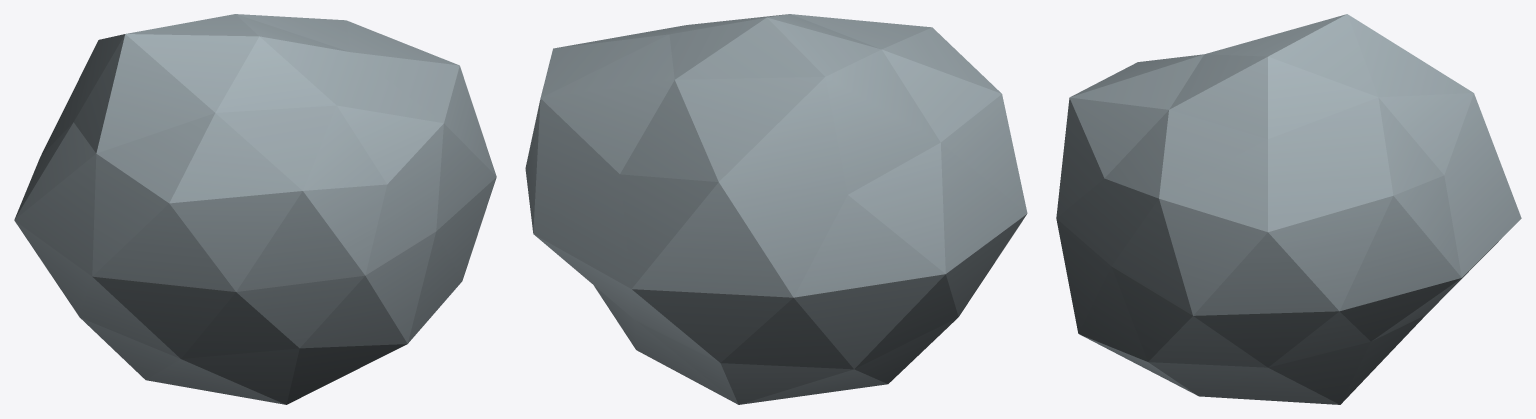
Rendered from smoke_puff_c.glb.
3 renders of one model, left to right at view 1: azimuth 30°, elevation 25°; view 2: azimuth 150°, elevation 25°; view 3: azimuth 270°, elevation 25°, orthographic. The views are drawn at different scales.
Parts seen in each view (by area): view 1: smoke_puff_c; view 2: smoke_puff_c; view 3: smoke_puff_c.
Part boxes in pixels (x1=…): smoke_puff_c: x1=14, y1=14, x2=496, y2=404; smoke_puff_c: x1=525, y1=14, x2=1027, y2=404; smoke_puff_c: x1=1056, y1=14, x2=1521, y2=404.
Bounding box in the file's own units: 1.04 × 0.7743 × 1.03.
Materials: 1 (1 with a texture image).
